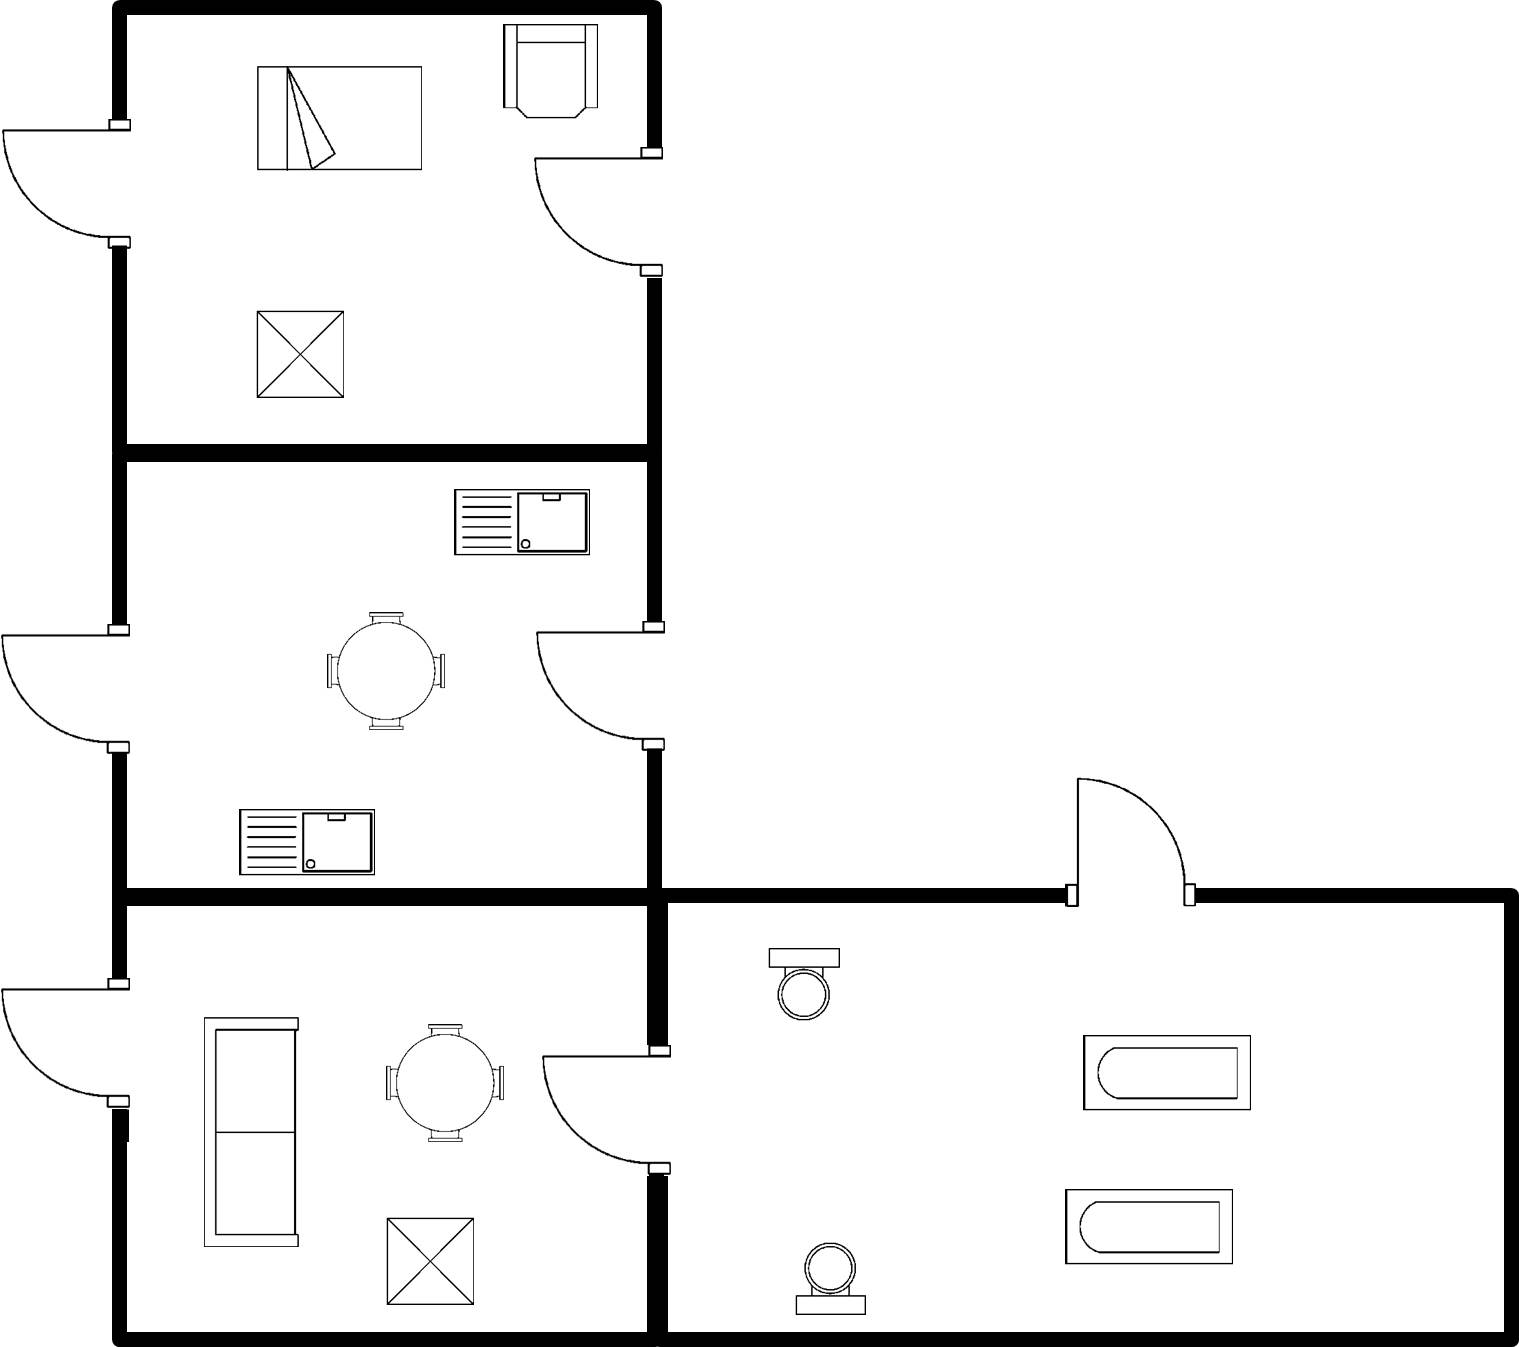armchair: (491, 16, 608, 128)
bed: (245, 56, 432, 181)
coffee_table: (242, 305, 357, 408), (375, 1207, 482, 1316)
large_sink: (784, 1233, 879, 1323), (757, 937, 847, 1028)
large_sofa: (196, 1008, 308, 1260)
round_table: (313, 602, 459, 737), (376, 1014, 518, 1151)
sink: (228, 798, 386, 886), (447, 480, 603, 568)
tub: (1051, 1178, 1247, 1274), (1072, 1026, 1261, 1123)
